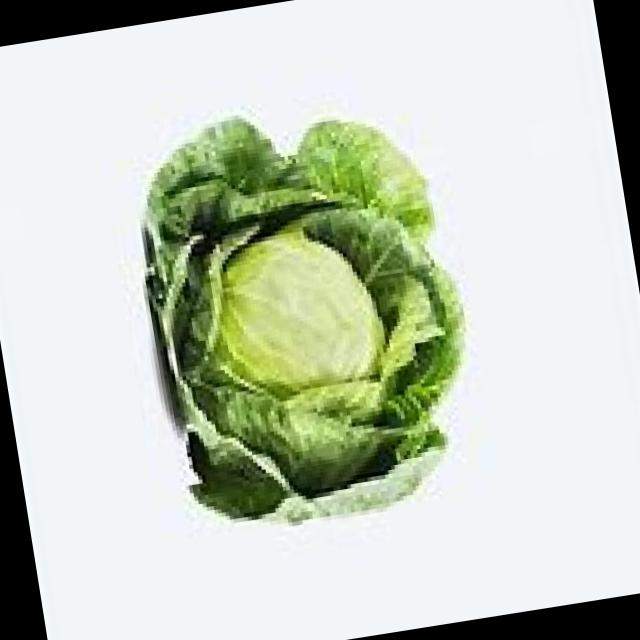cabbage: (114, 109, 476, 543)
